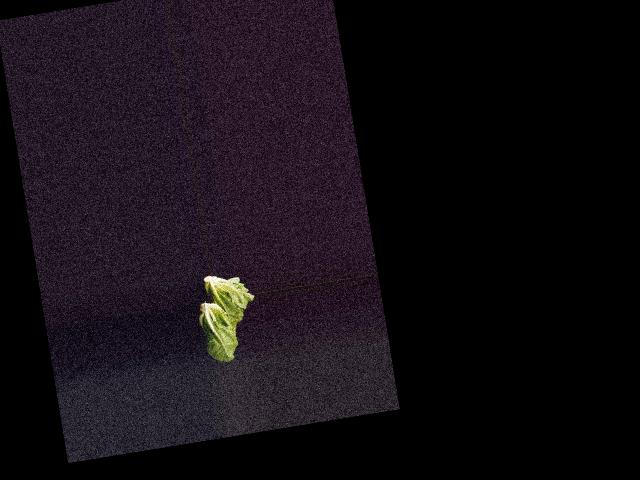lettuce: (196, 269, 258, 338)
